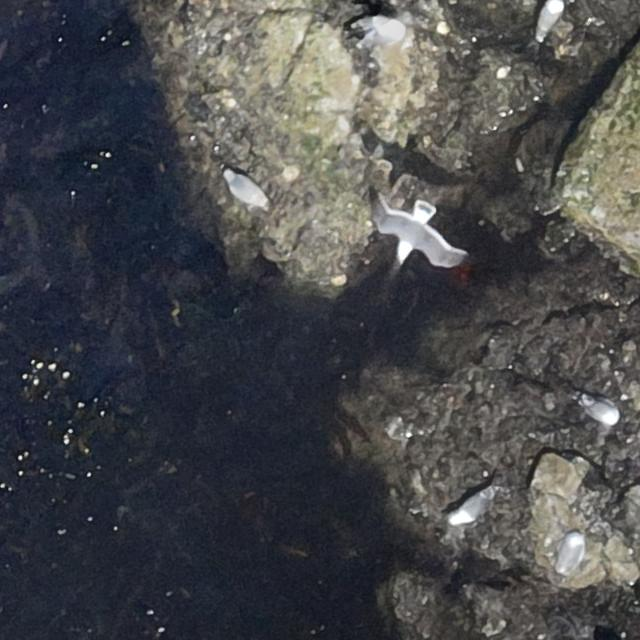F: (373, 194, 465, 268)
umineko: (445, 480, 497, 528), (222, 165, 270, 212), (554, 529, 583, 579), (354, 18, 401, 47), (584, 399, 616, 424), (539, 2, 562, 34)
